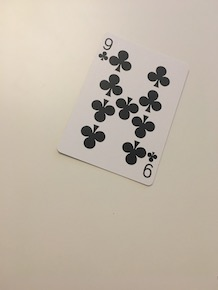NineOfClubs: (52, 31, 192, 187)
